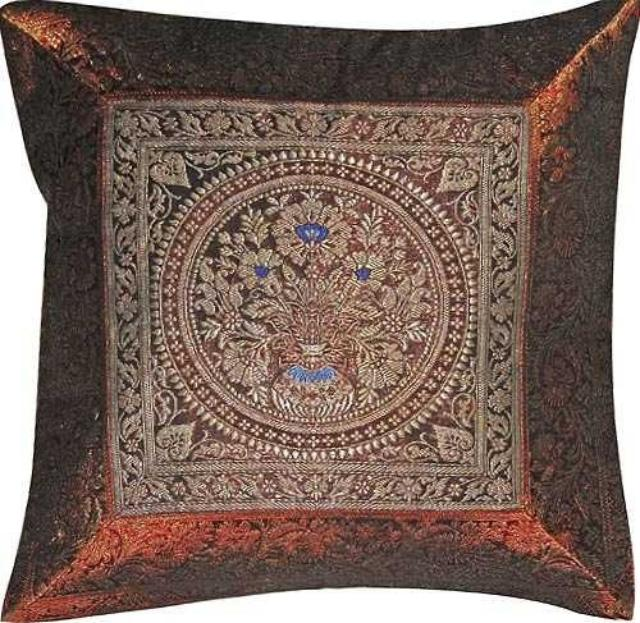pillow: (0, 0, 638, 622)
